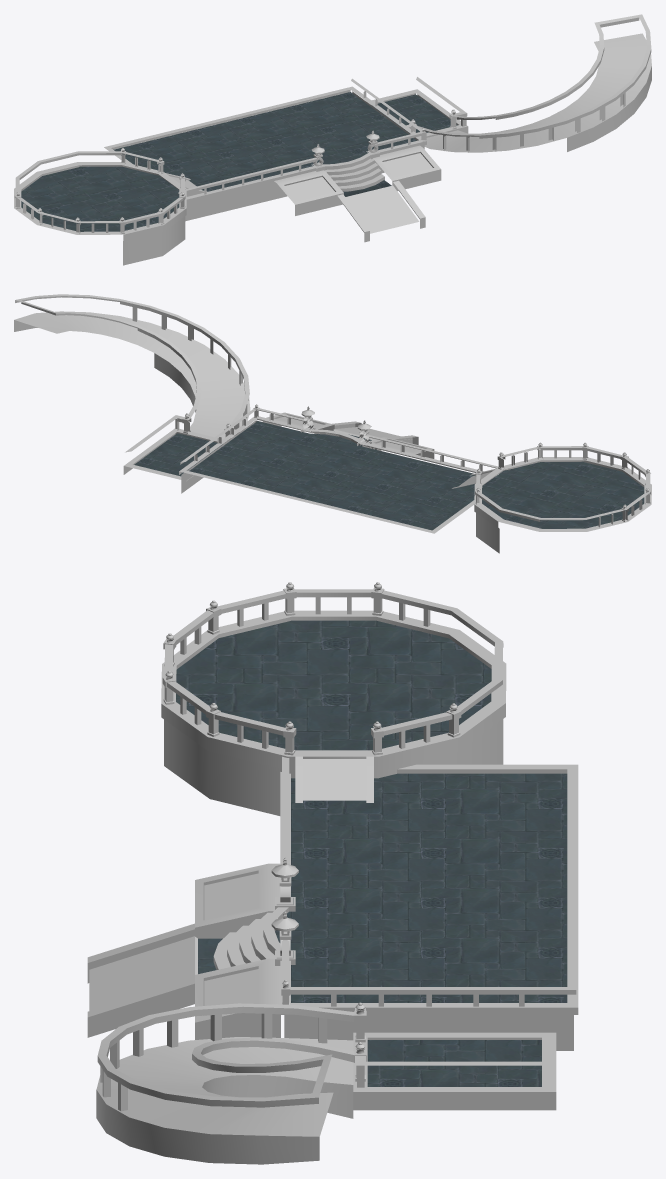
3 renders of one model, top to bottom at view 1: azimuth 30°, elevation 25°; view 2: azimuth 150°, elevation 25°; view 3: azimuth 270°, elevation 25°, orthographic. The views are drawn at different scales.
Visible parts, largest first — view 1: MB0002_13; view 2: MB0002_13; view 3: MB0002_13.
Boxes of the visible parts, left/top/right/bottom form: MB0002_13: left=14, top=14, right=651, bottom=265; MB0002_13: left=14, top=294, right=651, bottom=553; MB0002_13: left=87, top=582, right=578, bottom=1164.
Size of the model in its own units: 42.95 by 6.95 by 14.87.
